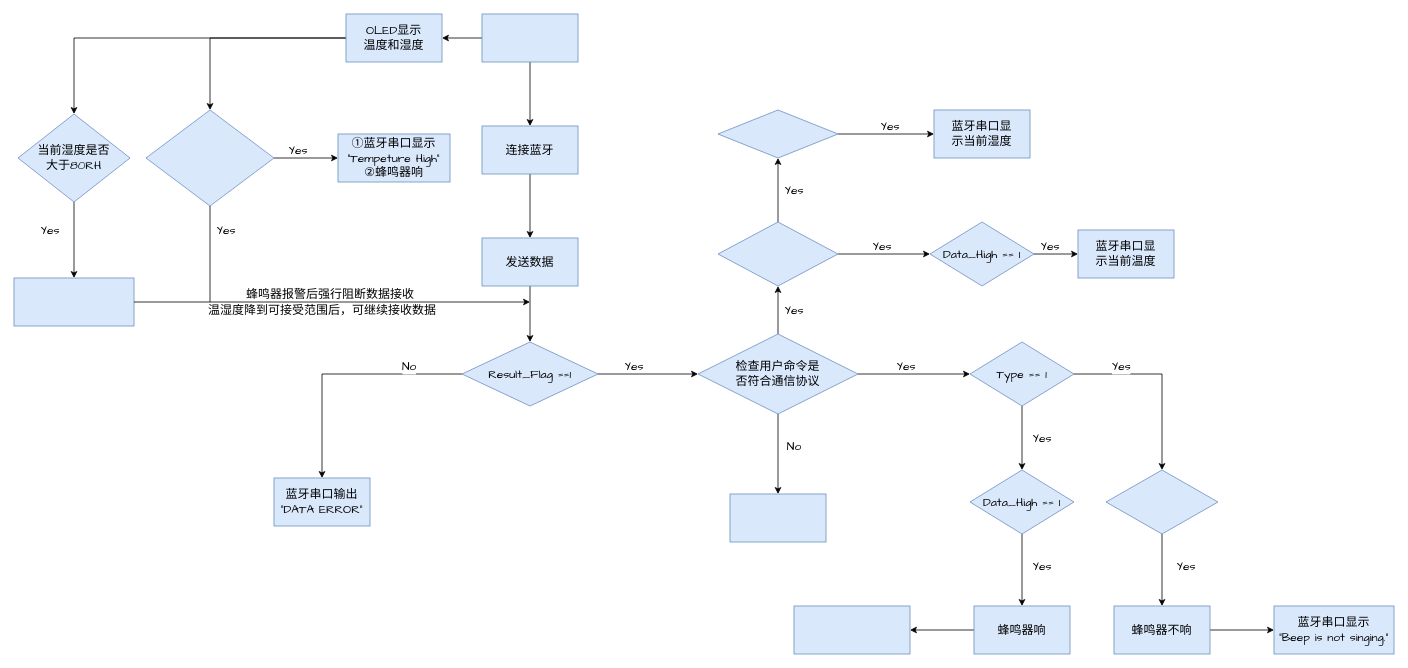
Image size: 1408x668. Some labels were removed from this diagram. The centre of each missing label's shape, as x and y in pixels:
Data_High == 2: pixel 1161 501
Data_Hihd == 2: pixel 777 133
Type == 2: pixel 777 253
①蓝牙串口显示 “Humidity High" ②蜂鸣器响: pixel 73 301
启动设备: pixel 529 37
当前温度是否 大于26℃: pixel 209 157
蓝牙串口什 么都不显示: pixel 777 517
蓝牙串口显示 “Beep is singing.": pixel 851 629
